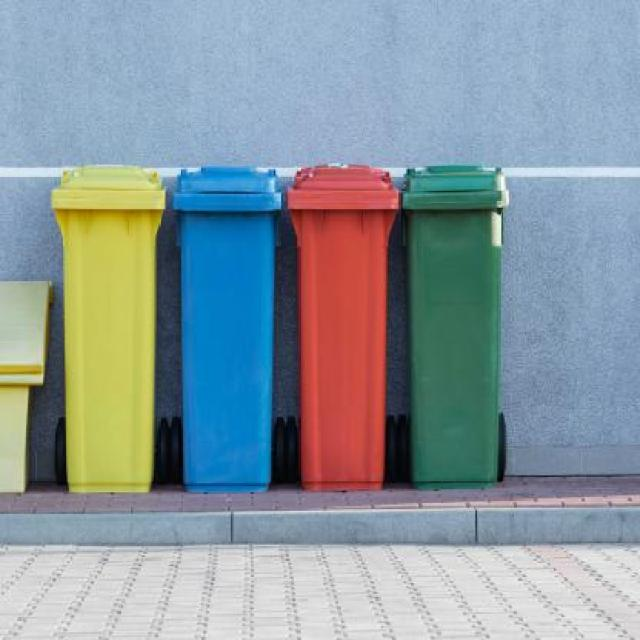garbage container: (48, 156, 169, 499), (398, 159, 519, 498), (169, 158, 285, 502), (286, 154, 403, 495)
